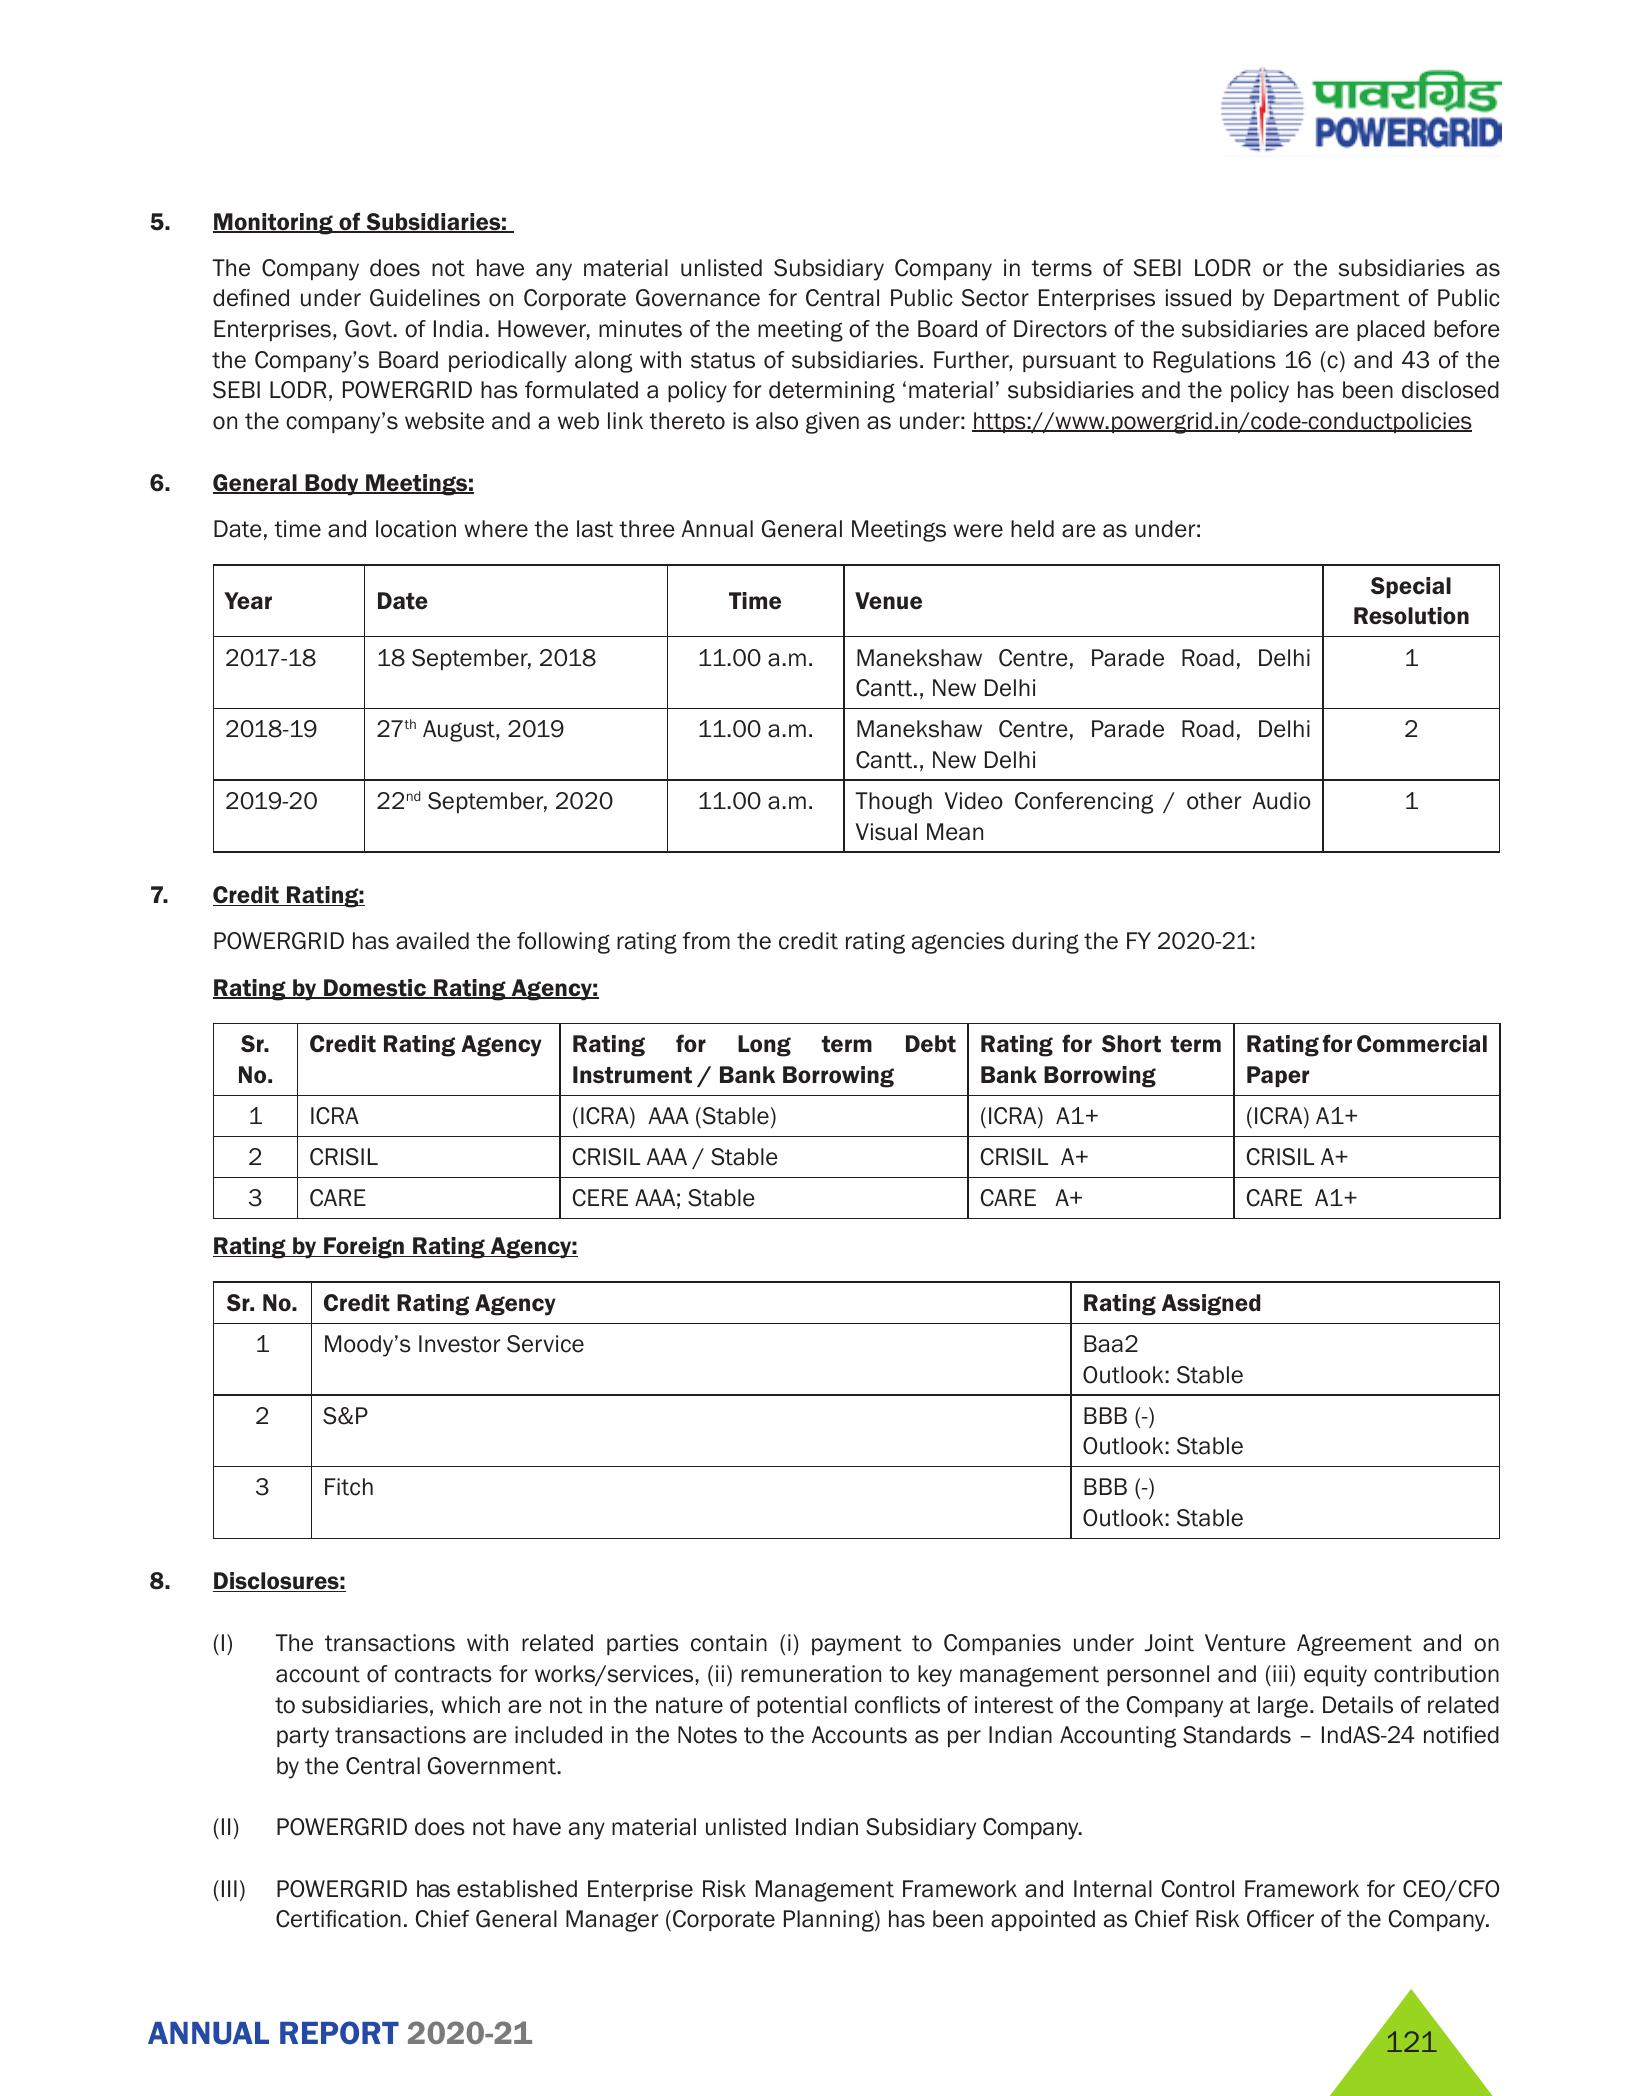Footer: (0, 1962, 1650, 2096)
Header: (0, 0, 1650, 175)
Table: (189, 543, 1524, 863), (184, 1271, 1507, 1553), (179, 1009, 1524, 1230)
